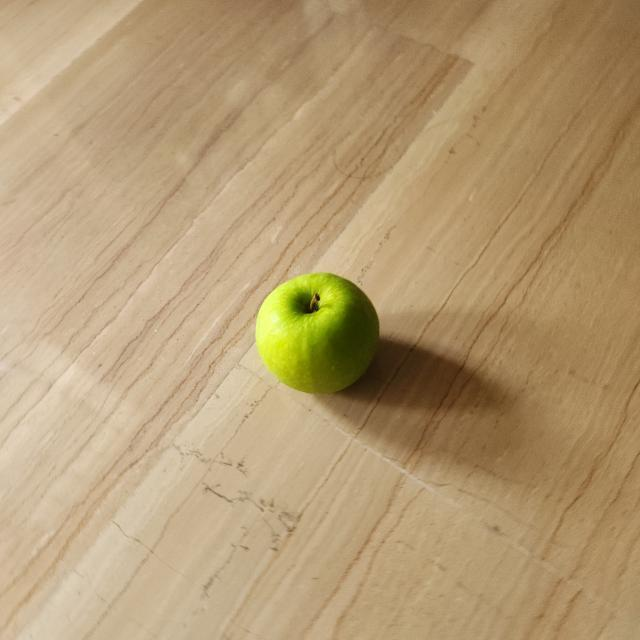apple: (255, 265, 390, 402)
